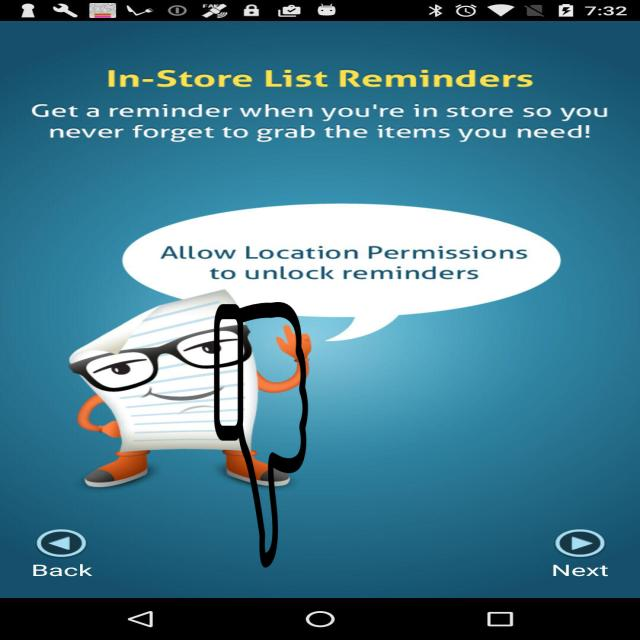obstruction: (213, 302, 309, 568)
